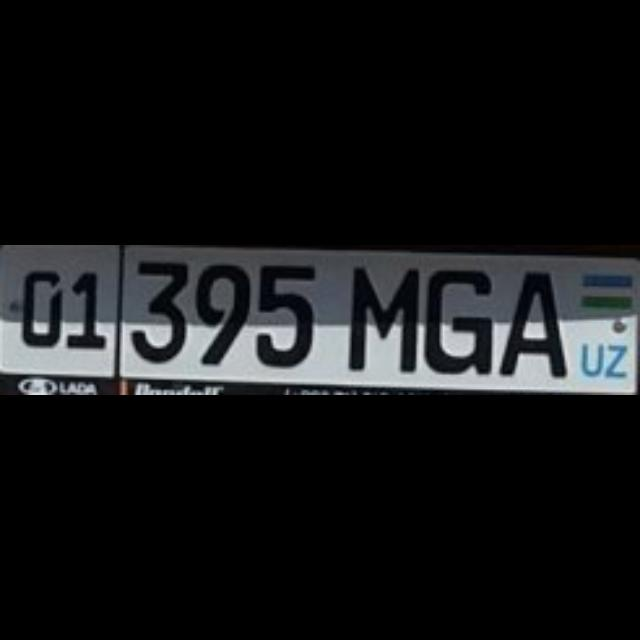0: (18, 268, 60, 346)
1: (65, 268, 101, 346)
3: (127, 258, 187, 359)
5: (252, 260, 310, 368)
9: (192, 260, 248, 362)
A: (496, 268, 562, 376)
G: (421, 266, 489, 372)
M: (346, 266, 416, 372)
